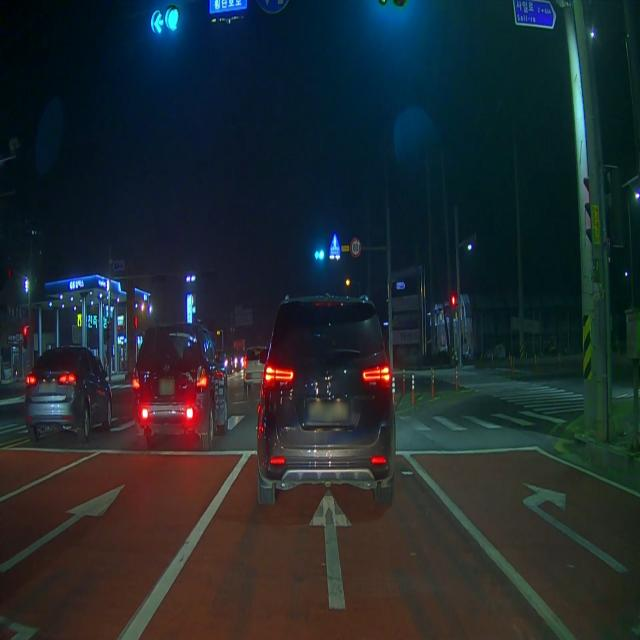Green Light: (166, 5, 180, 34), (320, 248, 324, 262)
